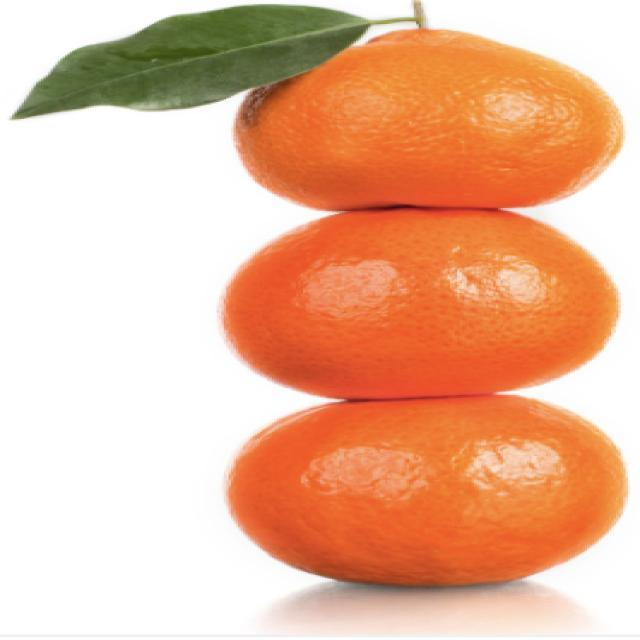Orange: (217, 206, 620, 401), (225, 393, 628, 587), (232, 25, 625, 211)
